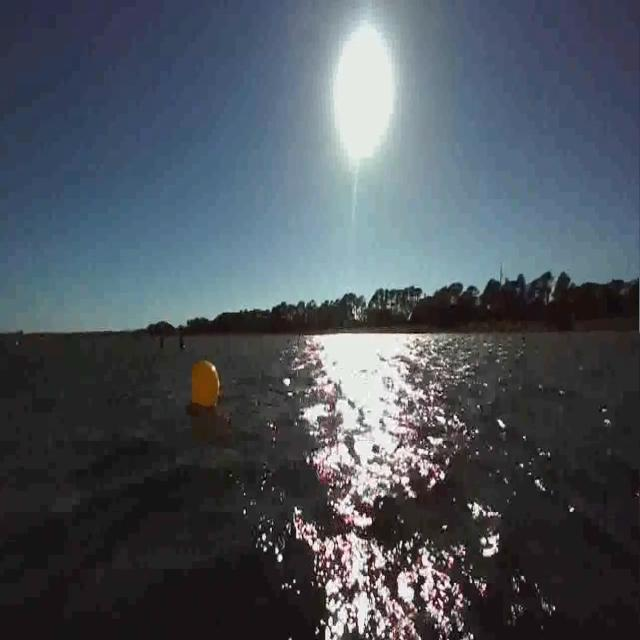yellow-buoy: (191, 358, 222, 412)
